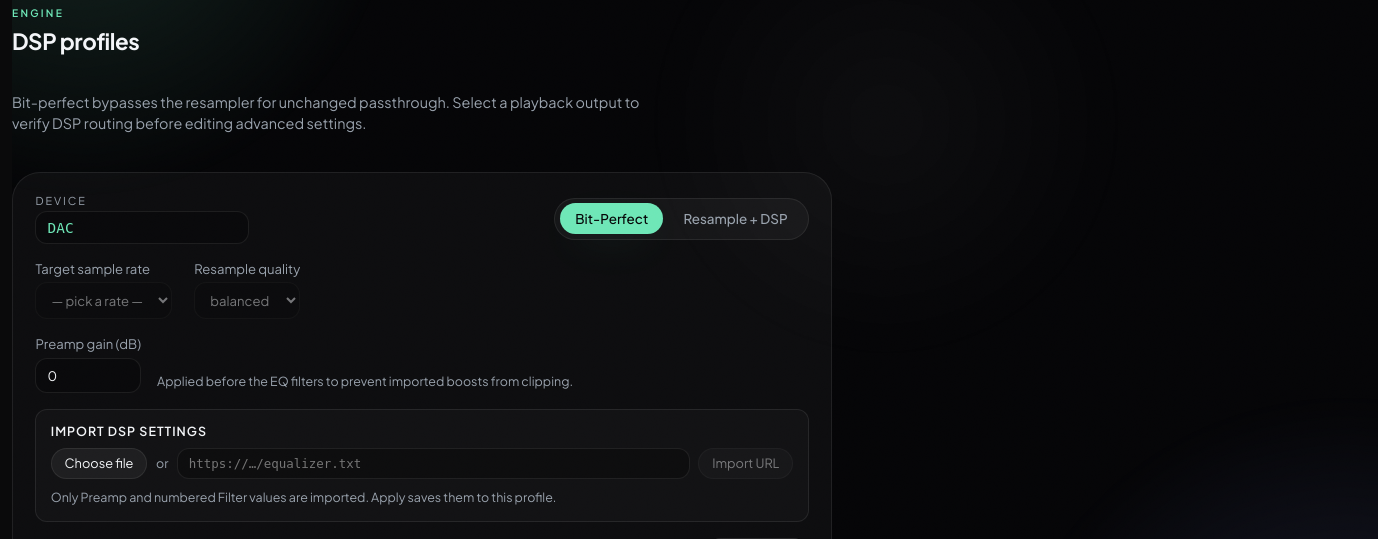
Test: DspView preamp and imports › imports settings from a URL
Expected: the number field labelled "Preamp gain (dB)" is shown, [35,358,141,393]
Type "https://example.test/eq.txt" into the field named "DSP settings URL" at (433, 463), box [177,448,690,479]
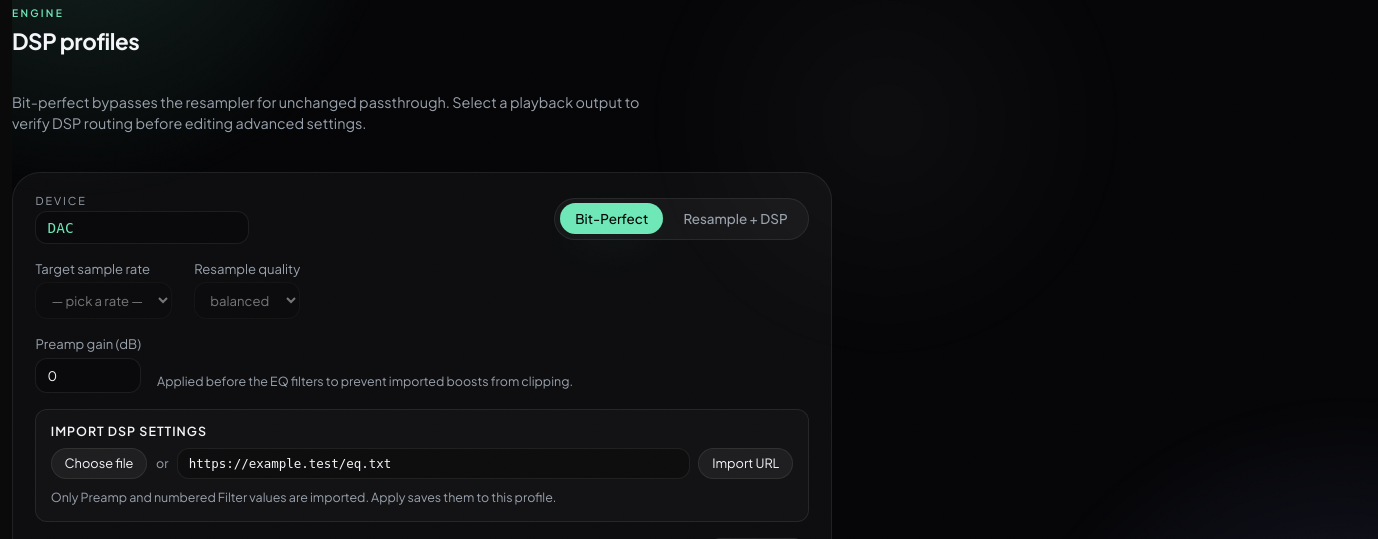
Click the button "Import URL" at (746, 463), box [698,448,793,479]
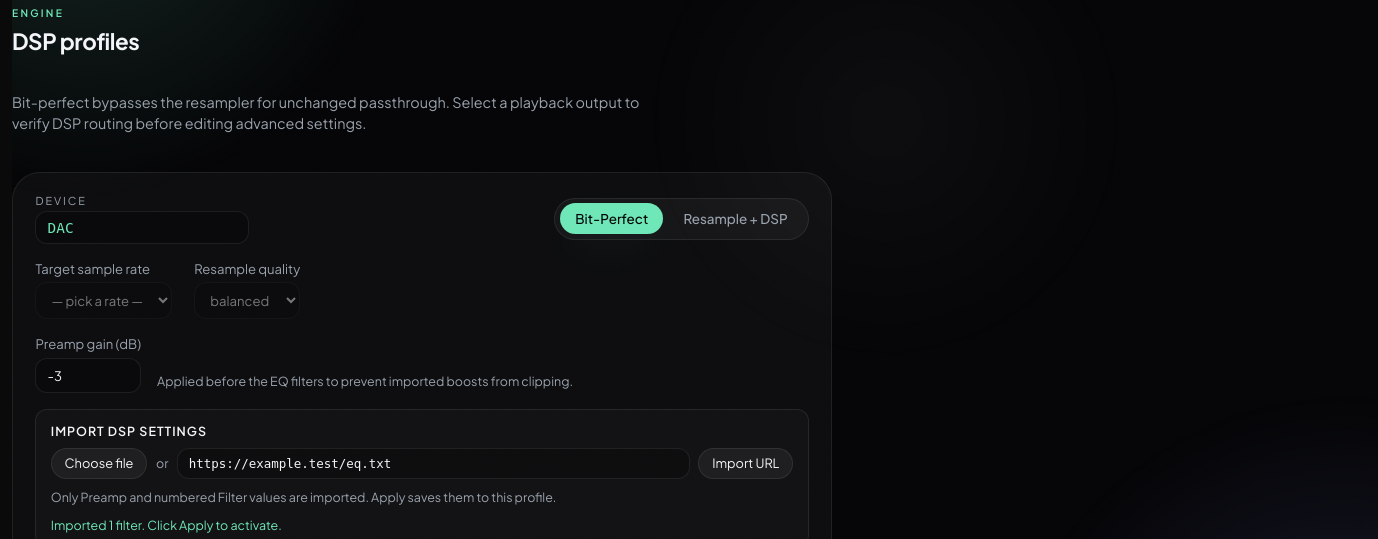
Now the number field labelled "Preamp gain (dB)" holds "-3", box [35,358,141,393]
Now the text "Imported 1 filter. Click Apply to activate." is shown, box [51,517,282,533]
